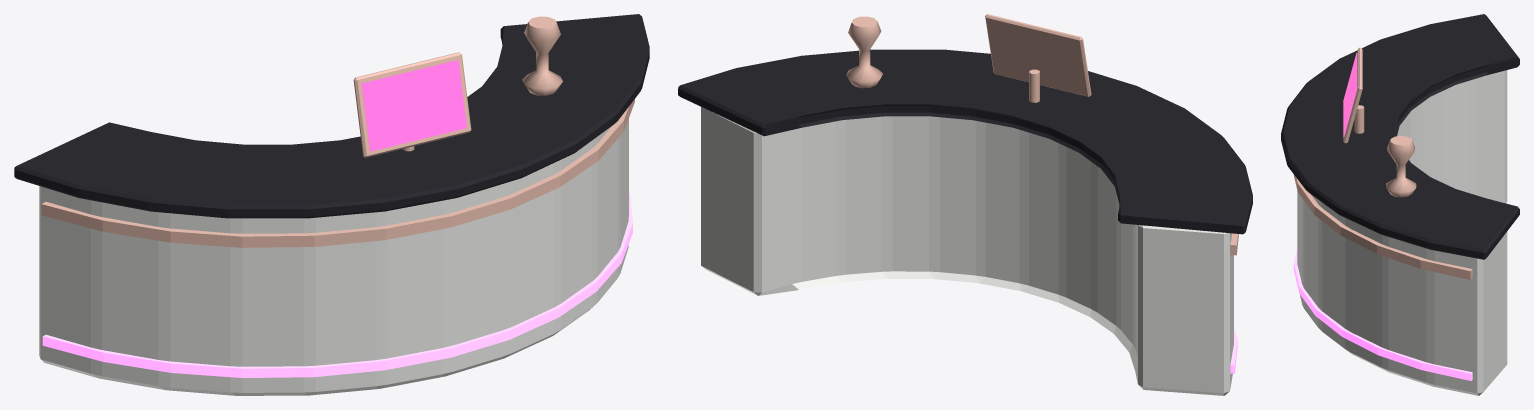
Rendered from ag_desk.glb.
The picture shows the model from 3 angles, left to right: view 1: azimuth 30°, elevation 25°; view 2: azimuth 150°, elevation 25°; view 3: azimuth 270°, elevation 25°; orthographic projection. The views are drawn at different scales.
Visible parts, largest first — view 1: ag_desk; view 2: ag_desk; view 3: ag_desk.
Part boxes in pixels (<box>): ag_desk: <box>14,14,649,395</box>; ag_desk: <box>678,14,1252,395</box>; ag_desk: <box>1281,14,1519,395</box>.
Bounding box in the file's own units: 3.51 × 1.52 × 1.49.
